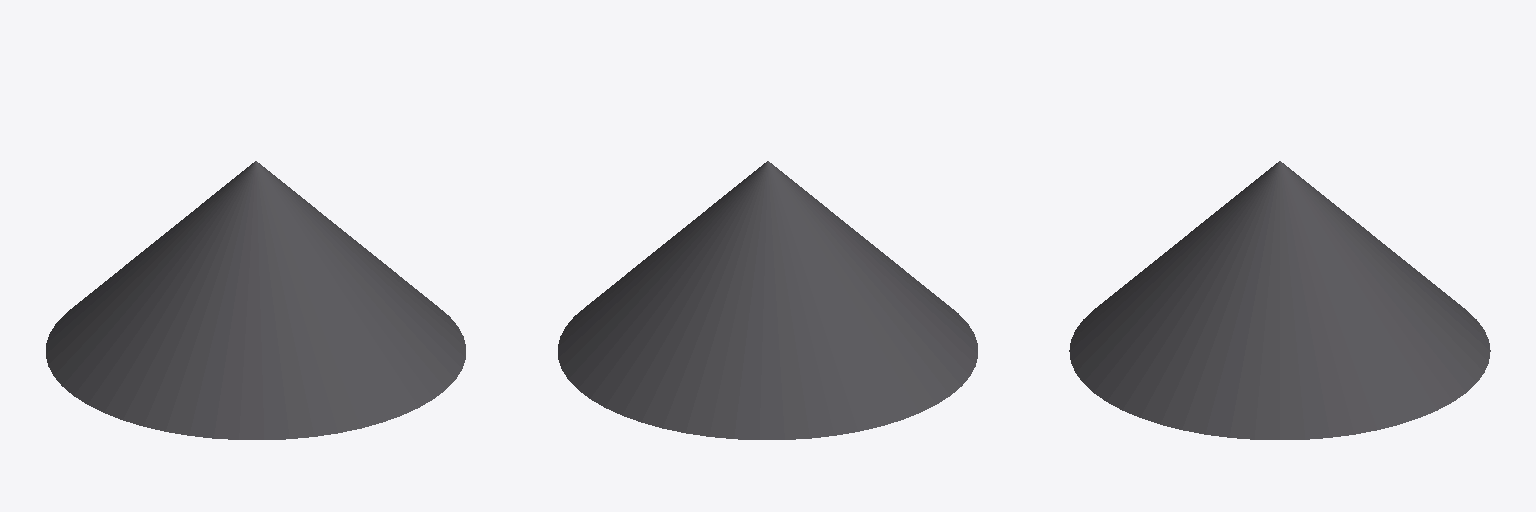
File: original.obj
3 views of the same model, side by side, from view 1: azimuth 30°, elevation 25°; view 2: azimuth 150°, elevation 25°; view 3: azimuth 270°, elevation 25° (orthographic).
Parts seen in each view (by area): view 1: Enhancedcone1; view 2: Enhancedcone1; view 3: Enhancedcone1.
Boxes of the visible parts, x1,y1,x2,y2 form: Enhancedcone1: [46, 161, 465, 439]; Enhancedcone1: [558, 161, 977, 439]; Enhancedcone1: [1069, 161, 1490, 439].
Size of the model in its own units: 4 by 2 by 4.